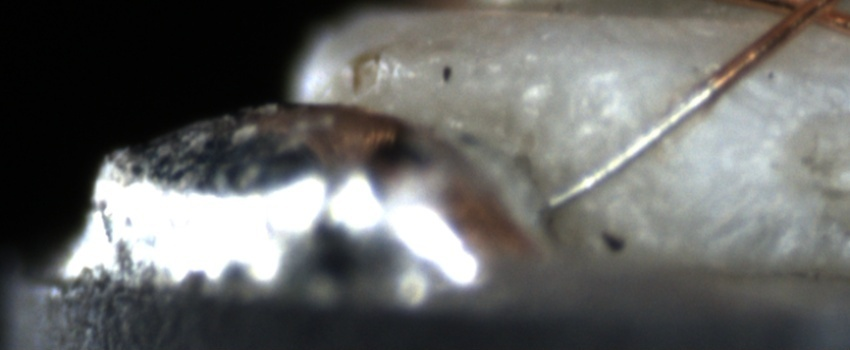CL: (770, 1, 847, 32)
DL: (606, 62, 849, 89)
TS: (547, 80, 717, 209)
TTCW: (550, 33, 766, 208)
